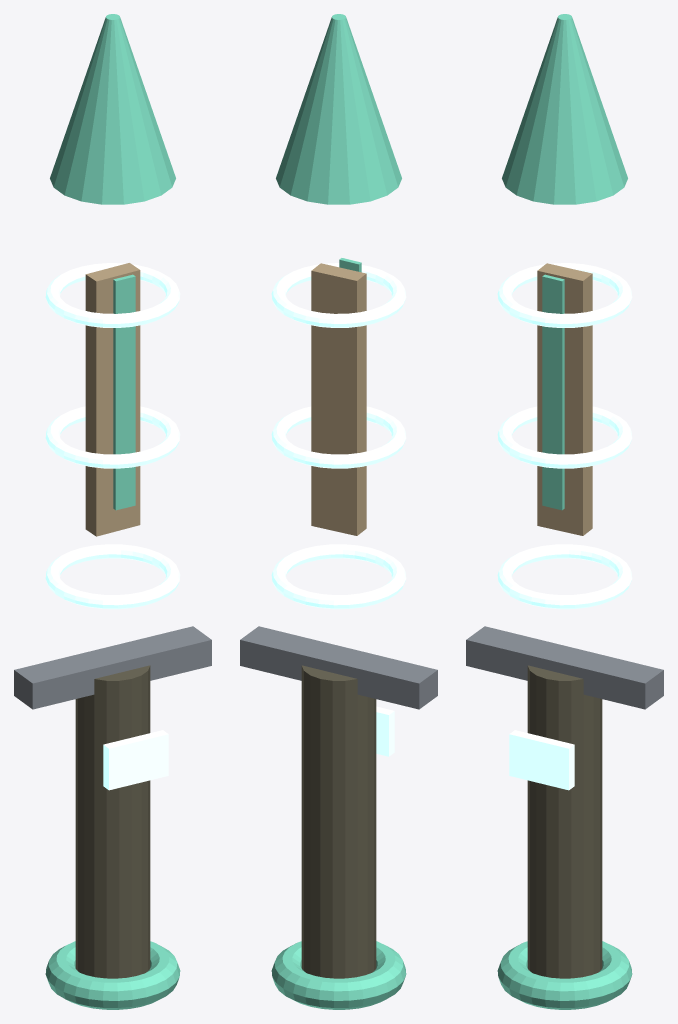
Rendered from asset.glb.
The picture shows the model from 3 angles, left to right: view 1: azimuth 30°, elevation 25°; view 2: azimuth 150°, elevation 25°; view 3: azimuth 330°, elevation 25°; orthographic projection.
Parts seen in each view (by area): view 1: Grip, BladeTip, BladeCore, Guard, Pommel, BladeEdge, EnergyBand_1.18, EnergyBand_2.26, EnergyBand_1.72, IdentityPlate; view 2: Grip, BladeTip, BladeCore, Guard, Pommel, EnergyBand_1.18, EnergyBand_2.26, EnergyBand_1.72, IdentityPlate; view 3: Grip, BladeTip, BladeCore, Guard, Pommel, BladeEdge, EnergyBand_1.18, EnergyBand_2.26, EnergyBand_1.72, IdentityPlate.
Part boxes in pixels (box(x1,y1,x2,y2)): Grip: box(75, 665, 150, 978); BladeTip: box(50, 14, 175, 204); BladeCore: box(85, 263, 140, 536); Guard: box(14, 626, 211, 709); Pommel: box(45, 941, 180, 1009); BladeEdge: box(113, 274, 135, 510); EnergyBand_1.18: box(45, 544, 180, 609); EnergyBand_2.26: box(45, 263, 180, 327); EnergyBand_1.72: box(45, 406, 180, 468); IdentityPlate: box(103, 730, 168, 790); Grip: box(301, 665, 376, 978); BladeTip: box(276, 14, 401, 204); BladeCore: box(311, 263, 366, 535); Guard: box(240, 626, 437, 709); Pommel: box(271, 941, 406, 1009); EnergyBand_1.18: box(271, 544, 406, 609); EnergyBand_2.26: box(271, 263, 406, 327); EnergyBand_1.72: box(271, 406, 406, 468); IdentityPlate: box(376, 706, 394, 756); Grip: box(527, 665, 602, 978); BladeTip: box(502, 14, 627, 204); BladeCore: box(537, 263, 592, 535); Guard: box(466, 626, 663, 709); Pommel: box(497, 941, 632, 1009); BladeEdge: box(542, 274, 564, 510); EnergyBand_1.18: box(497, 544, 632, 609); EnergyBand_2.26: box(497, 263, 632, 327); EnergyBand_1.72: box(497, 406, 632, 468); IdentityPlate: box(509, 730, 574, 790).
Size of the model in its own units: 0.72 by 3.72 by 0.47.
